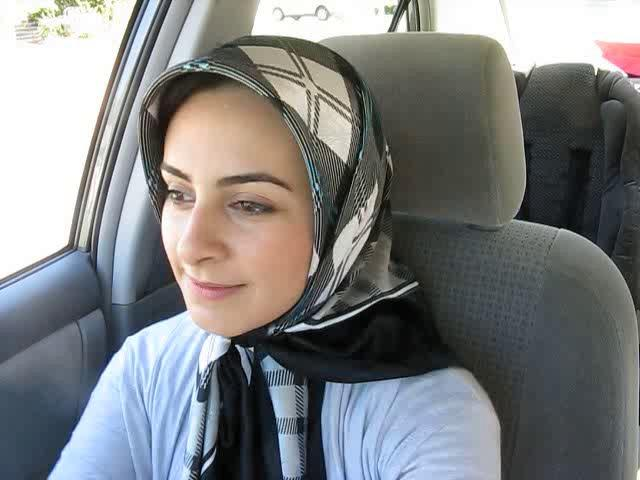close_eyeL: (158, 179, 201, 214)
close_eyeR: (216, 188, 286, 226)
no_yawn: (164, 267, 258, 308)
